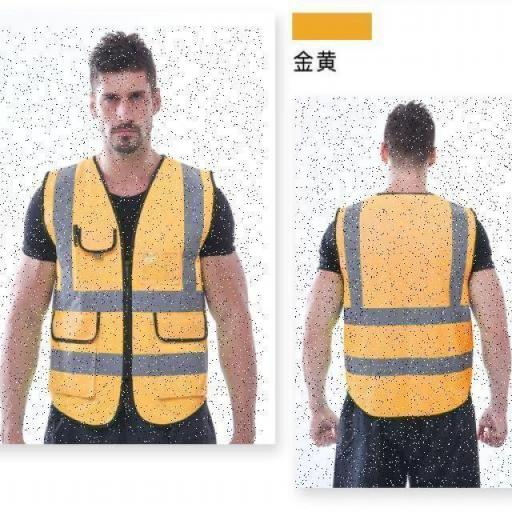Person: (0, 26, 264, 444), (295, 97, 512, 488)
